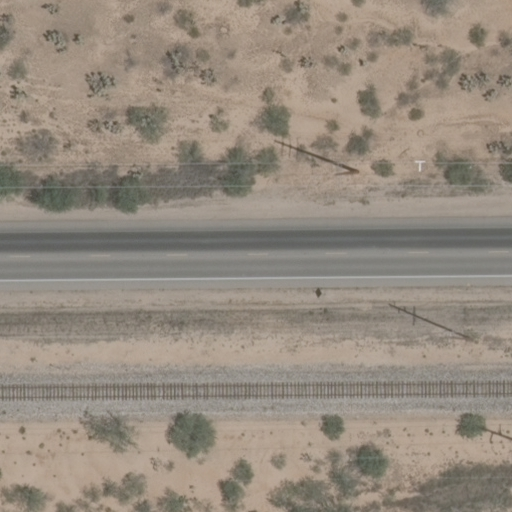DT: (266, 135, 362, 174), (388, 304, 474, 340)
